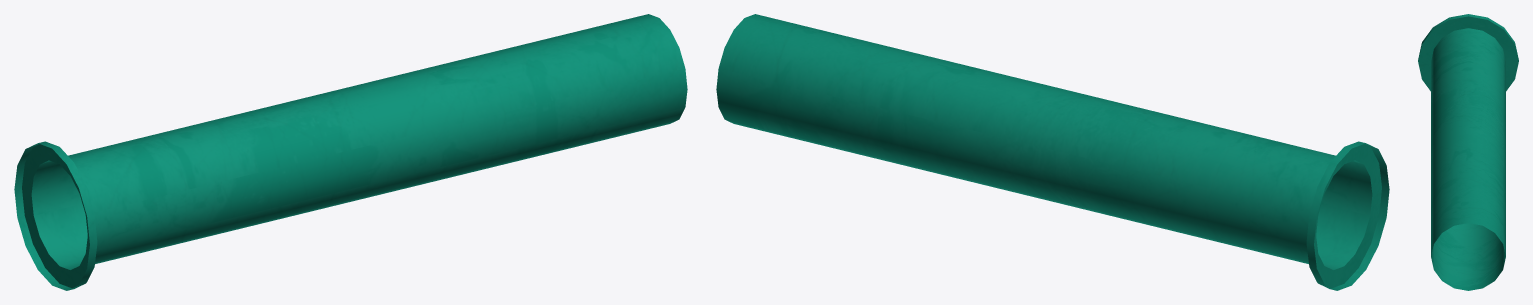
Rendered from pipe3mFlange1Big.fbx.
3 renders of one model, left to right at view 1: azimuth 30°, elevation 25°; view 2: azimuth 150°, elevation 25°; view 3: azimuth 270°, elevation 25°, orthographic. The views are drawn at different scales.
Visible parts, largest first — view 1: pipe3mBigFlange; view 2: pipe3mBigFlange; view 3: pipe3mBigFlange.
Part boxes in pixels (bbox=[...]): pipe3mBigFlange: bbox=[14, 14, 687, 290]; pipe3mBigFlange: bbox=[716, 14, 1389, 290]; pipe3mBigFlange: bbox=[1418, 14, 1518, 290].
Bounding box in the file's own units: 2.99 × 0.6444 × 0.6444.
